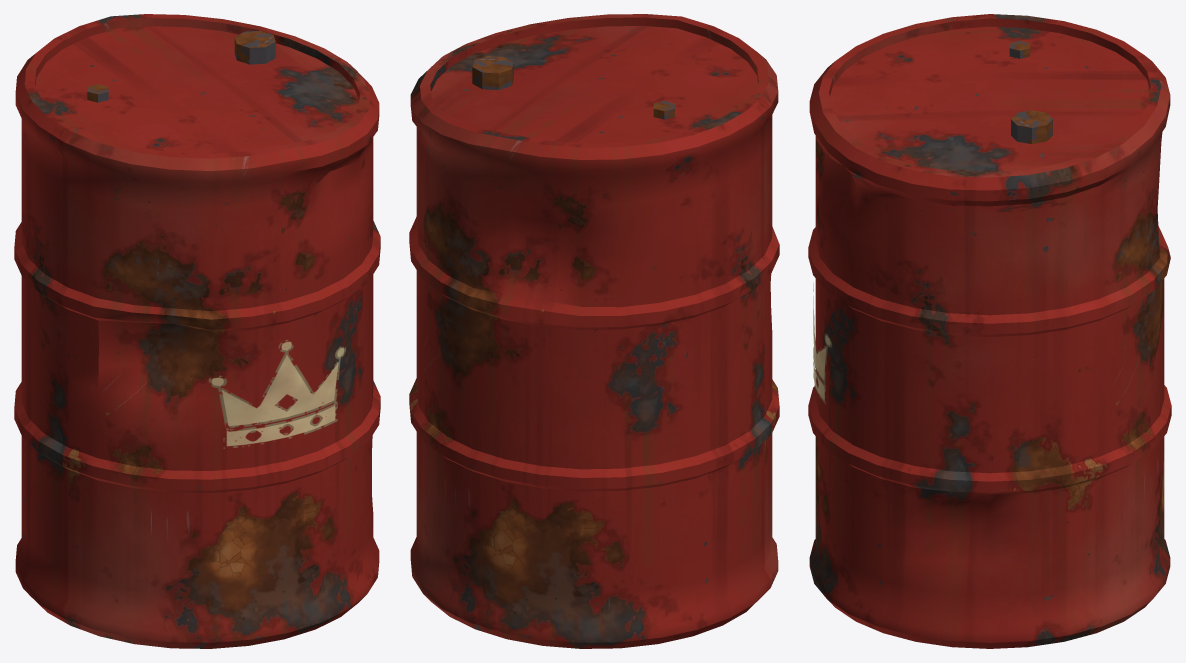
The model's file is Metal_Barrel_Dented.glb.
3 renders of one model, left to right at view 1: azimuth 30°, elevation 25°; view 2: azimuth 150°, elevation 25°; view 3: azimuth 270°, elevation 25°, orthographic. The views are drawn at different scales.
Visible parts, largest first — view 1: Metal_Barrel_Dented; view 2: Metal_Barrel_Dented; view 3: Metal_Barrel_Dented.
Part boxes in pixels (x1=…): Metal_Barrel_Dented: x1=14, y1=14, x2=380, y2=648; Metal_Barrel_Dented: x1=409, y1=14, x2=779, y2=648; Metal_Barrel_Dented: x1=808, y1=14, x2=1171, y2=648.
Bounding box in the file's own units: 0.604 × 0.91 × 0.604.
3 materials, 3 textured.
